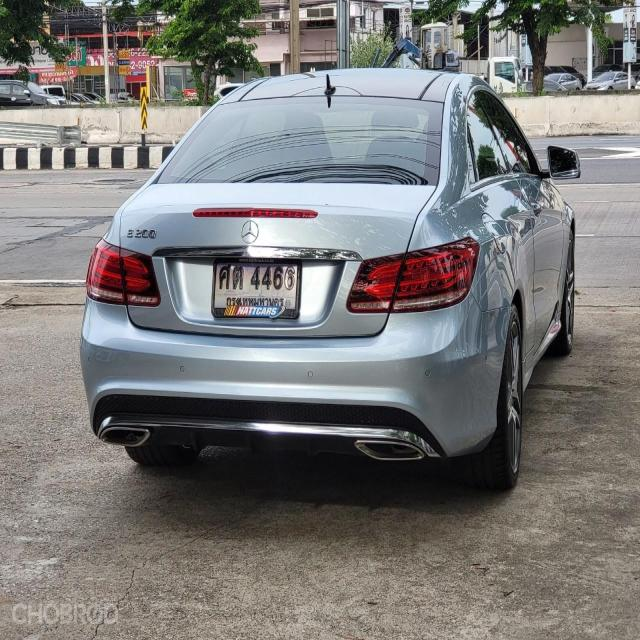license_plate: (212, 257, 302, 325)
